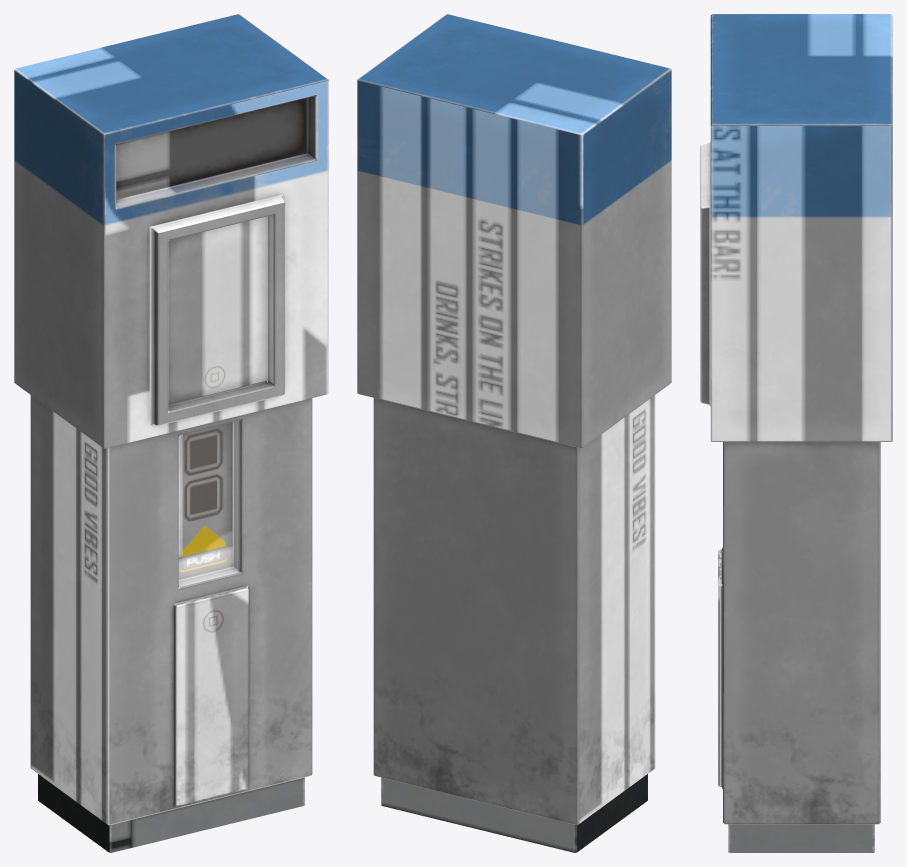
The model's file is SM_CityProps_ParkingDevices_B.fbx.
3 renders of one model, left to right at view 1: azimuth 30°, elevation 25°; view 2: azimuth 150°, elevation 25°; view 3: azimuth 270°, elevation 25°, orthographic.
Parts seen in each view (by area): view 1: SM_CityProps_ParkingDevices_B_LOD0; view 2: SM_CityProps_ParkingDevices_B_LOD0; view 3: SM_CityProps_ParkingDevices_B_LOD0.
Boxes of the visible parts, x1,y1,x2,y2 form: SM_CityProps_ParkingDevices_B_LOD0: (14,14,328,852); SM_CityProps_ParkingDevices_B_LOD0: (357,14,671,852); SM_CityProps_ParkingDevices_B_LOD0: (700,14,892,852).
Bounding box in the file's own units: 51.61 × 37.71 × 159.
1 material, 1 textured.
